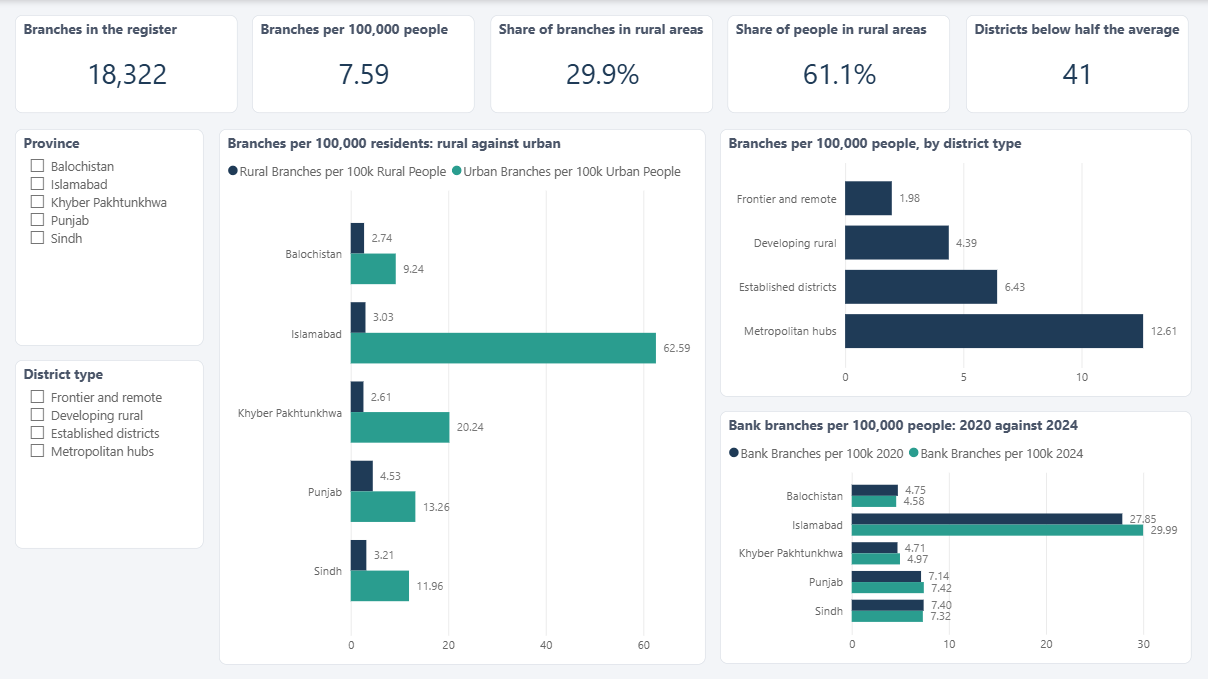

The page's visual inventory and layout, read from the dashboard file:
{"tool":"powerbi","page":{"name":"Where branches are","canvas":[1280,720],"ordinal":2},"visuals":[{"type":"card","title":"Branches in the register","fields":{"Values":["_Measures.Total Branches"]},"box":[16,16,236,104],"z":0},{"type":"card","title":"Branches per 100,000 people","fields":{"Values":["_Measures.Branches per 100k"]},"box":[268,16,236,104],"z":1000},{"type":"card","title":"Share of branches in rural areas","fields":{"Values":["_Measures.Rural Branch Share %"]},"box":[520,16,236,104],"z":2000},{"type":"card","title":"Share of people in rural areas","fields":{"Values":["_Measures.Rural Population Share %"]},"box":[772,16,236,104],"z":3000},{"type":"card","title":"Districts below half the average","fields":{"Values":["_Measures.Districts Below Half National Avg"]},"box":[1024,16,236,104],"z":4000},{"type":"slicer","title":"Province","fields":{"Values":["provinces.province"]},"box":[16,136,200,230],"z":5000},{"type":"slicer","title":"District type","fields":{"Values":["district_types.district_type"]},"box":[16,382,200,200],"z":6000},{"type":"clusteredBarChart","title":"Branches per 100,000 residents: rural against urban","fields":{"Category":["provinces.province"],"Y":["_Measures.Rural Branches per 100k Rural People","_Measures.Urban Branches per 100k Urban People"]},"box":[232,136,516,568],"z":7000},{"type":"clusteredBarChart","title":"Branches per 100,000 people, by district type","fields":{"Category":["district_types.district_type"],"Y":["_Measures.Branches per 100k"]},"box":[764,136,500,284],"z":8000},{"type":"clusteredBarChart","title":"Bank branches per 100,000 people: 2020 against 2024","fields":{"Category":["provinces.province"],"Y":["_Measures.Bank Branches per 100k 2020","_Measures.Bank Branches per 100k 2024"]},"box":[764,436,500,268],"z":9000}]}

Visuals, with their boxes in screenshot pixels (x1, y1, x2, y2), scaled from the page's 1280x720 canvas onto the 1208x679 screenshot:
"Branches in the register" card: [x1=15, y1=15, x2=238, y2=113]
"Branches per 100,000 people" card: [x1=253, y1=15, x2=476, y2=113]
"Share of branches in rural areas" card: [x1=491, y1=15, x2=713, y2=113]
"Share of people in rural areas" card: [x1=729, y1=15, x2=951, y2=113]
"Districts below half the average" card: [x1=966, y1=15, x2=1189, y2=113]
"Province" slicer: [x1=15, y1=128, x2=204, y2=345]
"District type" slicer: [x1=15, y1=360, x2=204, y2=549]
"Branches per 100,000 residents: rural against urban" clusteredBarChart: [x1=219, y1=128, x2=706, y2=664]
"Branches per 100,000 people, by district type" clusteredBarChart: [x1=721, y1=128, x2=1193, y2=396]
"Bank branches per 100,000 people: 2020 against 2024" clusteredBarChart: [x1=721, y1=411, x2=1193, y2=664]
